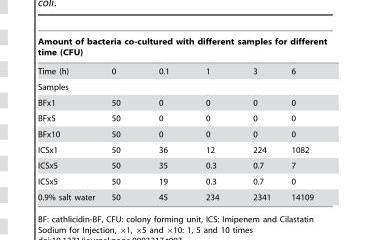table: (37, 36, 326, 201)
table column: (37, 36, 102, 201), (186, 36, 235, 201), (138, 36, 186, 201), (280, 36, 326, 201), (235, 36, 280, 201), (102, 36, 138, 201)
table column header: (37, 36, 326, 78)
table projected row header: (37, 78, 326, 94)
table row: (37, 36, 326, 61), (37, 61, 326, 78), (37, 78, 326, 94), (37, 94, 326, 110), (37, 110, 326, 126), (37, 141, 326, 157), (37, 157, 326, 173), (37, 173, 326, 189), (37, 126, 326, 141), (37, 189, 326, 201)
table spanning cell: (37, 36, 326, 61)
